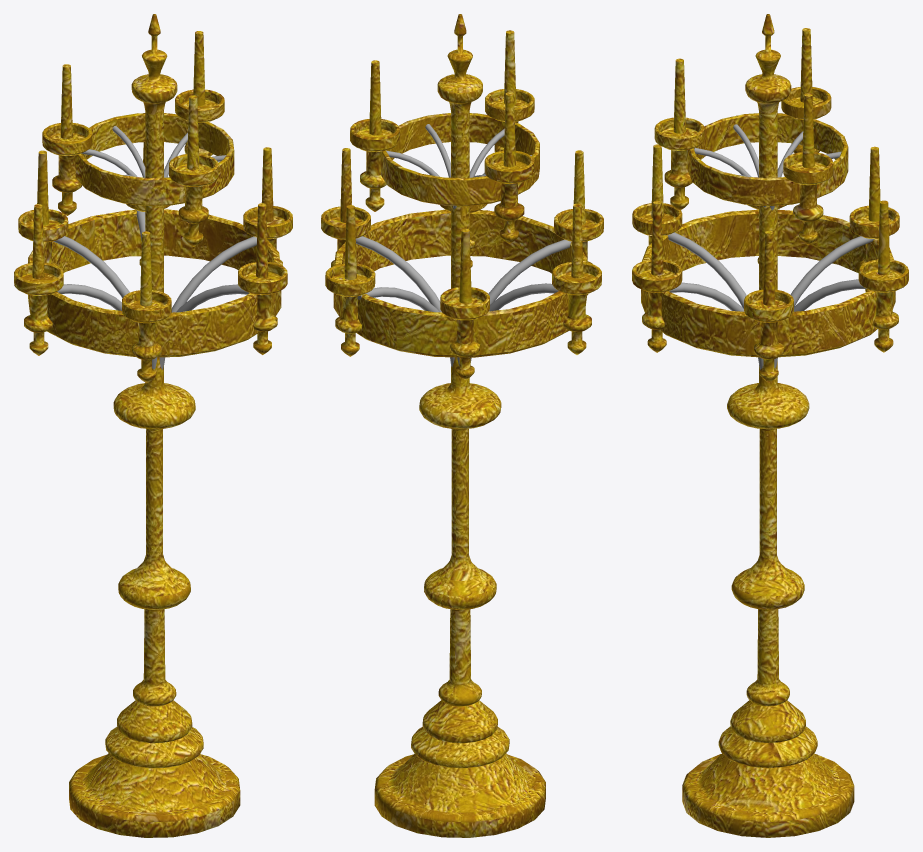
The model's file is candelabra unwrapped.fbx.
The picture shows the model from 3 angles, left to right: view 1: azimuth 30°, elevation 25°; view 2: azimuth 150°, elevation 25°; view 3: azimuth 270°, elevation 25°; orthographic projection.
Visible parts, largest first — view 1: inorganic_meshes:inorganic_meshes:polySurface9; view 2: inorganic_meshes:inorganic_meshes:polySurface9; view 3: inorganic_meshes:inorganic_meshes:polySurface9.
Boxes of the visible parts, left/top/right/bottom form: inorganic_meshes:inorganic_meshes:polySurface9: left=14, top=14, right=292, bottom=837; inorganic_meshes:inorganic_meshes:polySurface9: left=321, top=14, right=603, bottom=837; inorganic_meshes:inorganic_meshes:polySurface9: left=632, top=14, right=908, bottom=837.
Size of the model in its own units: 5.34 by 14.68 by 4.68.
